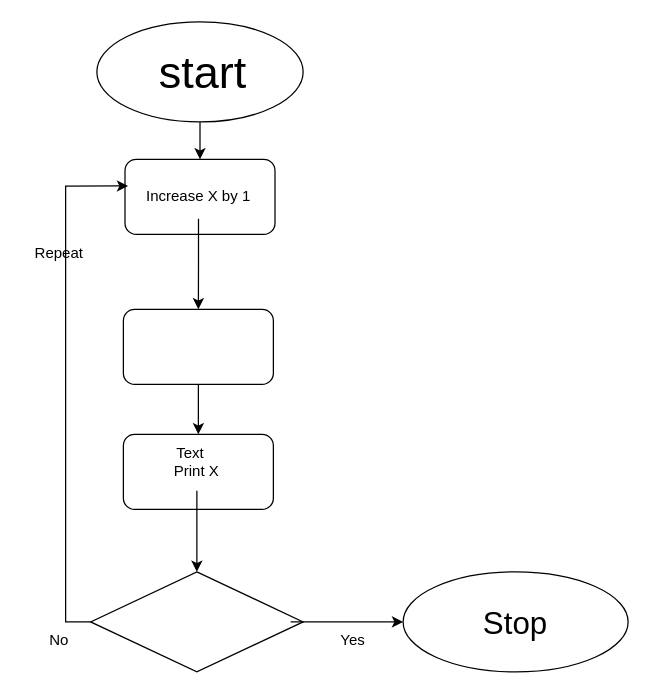
This 650x694 diagram has some shape labels left out. Each missing label, with the centre of its shape:
Store result of X: the point at 197,346
X=10?: the point at 196,621
